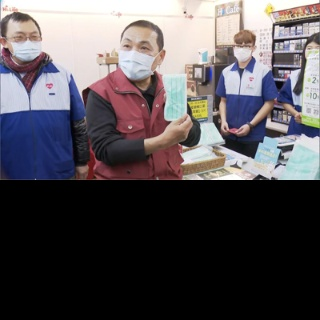with_mask: (117, 37, 157, 82), (9, 29, 43, 63), (233, 44, 252, 64), (304, 44, 320, 61)
